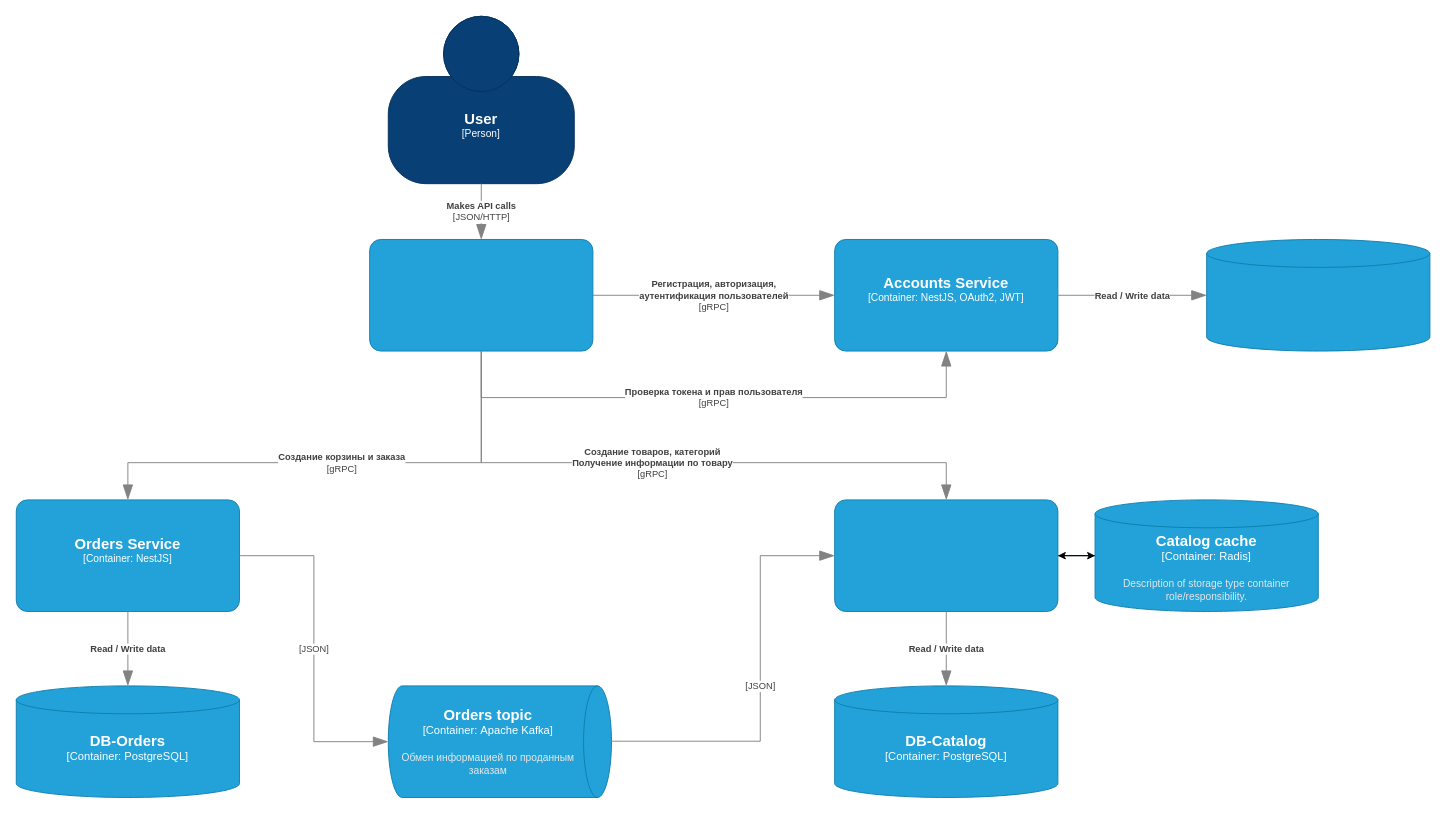
Some shapes in this 1446 by 814 pixel diagram are drawn without their labels. The centre of each missing label's shape, as x and y in pixels:
"API Gateway [Container: NestJS]" belongs at [481,295].
"Catalog Service [Container: NestJS]" belongs at [946,555].
"DB-Accounts [Container: PostgreSQL]" belongs at [1318,295].
